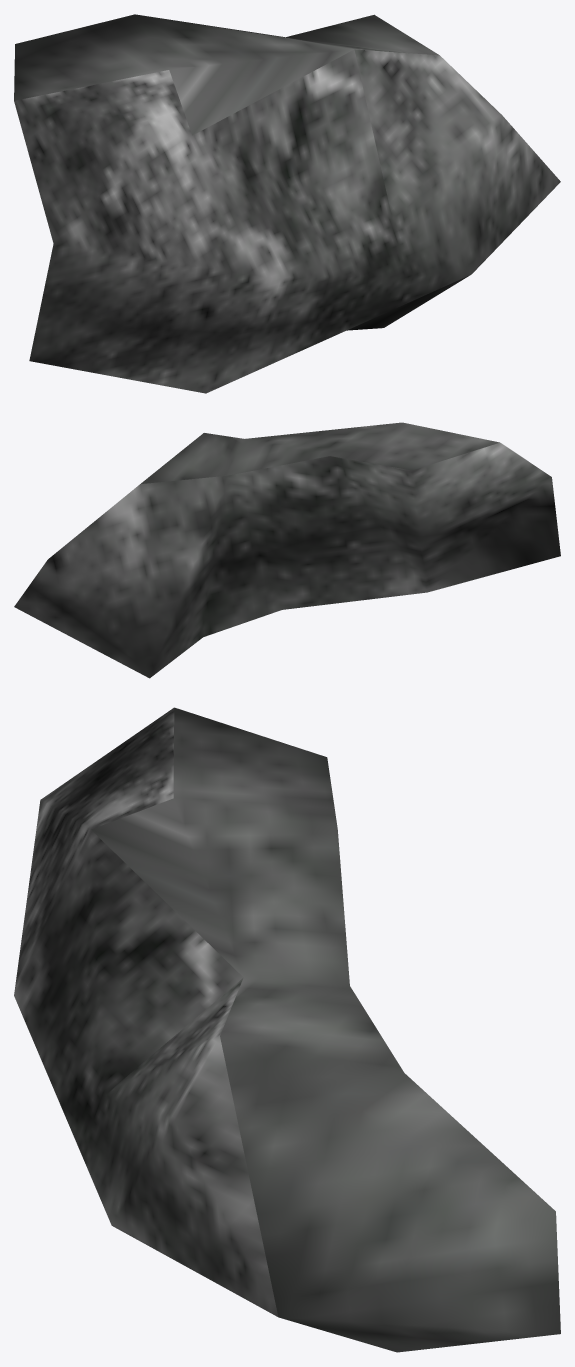
File: SculptParticle3.fbx
3 views of the same model, one above another, from view 1: azimuth 30°, elevation 25°; view 2: azimuth 150°, elevation 25°; view 3: azimuth 270°, elevation 25° (orthographic). The views are drawn at different scales.
Parts seen in each view (by area): view 1: CrystalLP.005; view 2: CrystalLP.005; view 3: CrystalLP.005.
Boxes of the visible parts, x1,y1,x2,y2 form: CrystalLP.005: (14, 14, 560, 393); CrystalLP.005: (14, 422, 560, 678); CrystalLP.005: (14, 707, 560, 1352).
Size of the model in its own units: 0.2936 by 0.1978 by 0.1555.
